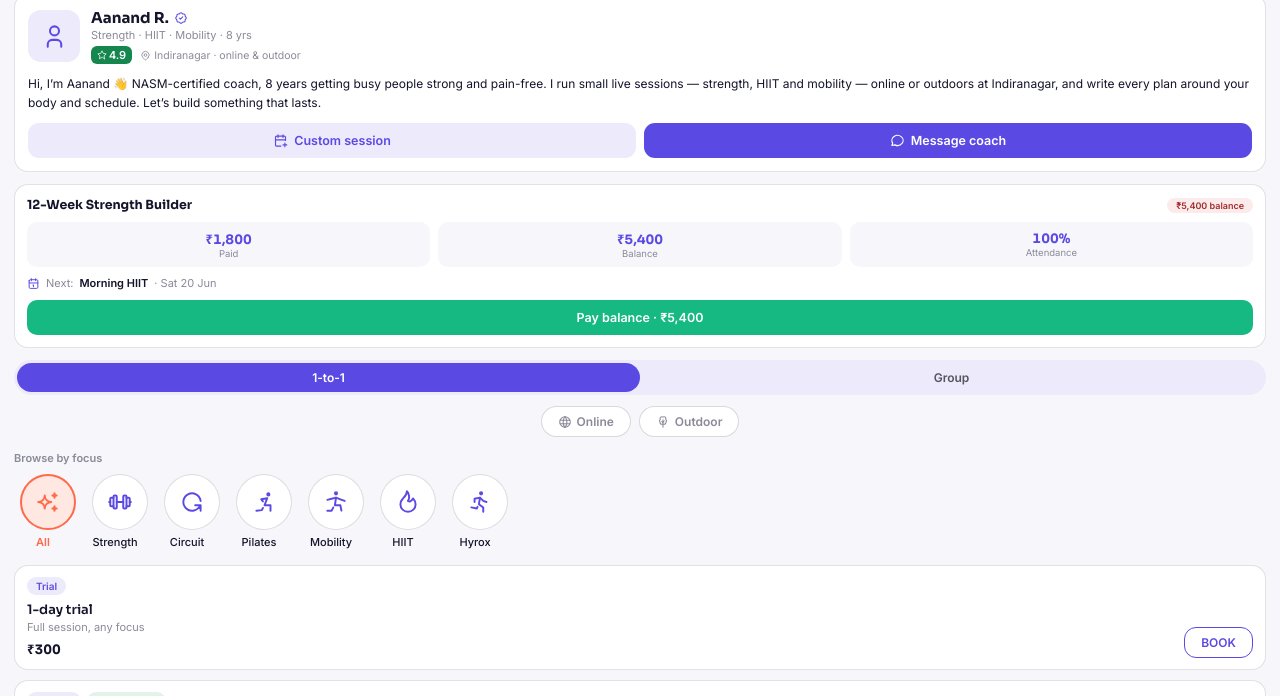
Test: SessionsScreen › filters 1:1 programs by Online / Outdoor delivery
The image size is (1280, 696).
Click the button "Online".
click(586, 422)  # box top-left (541, 406), bottom-right (631, 437)
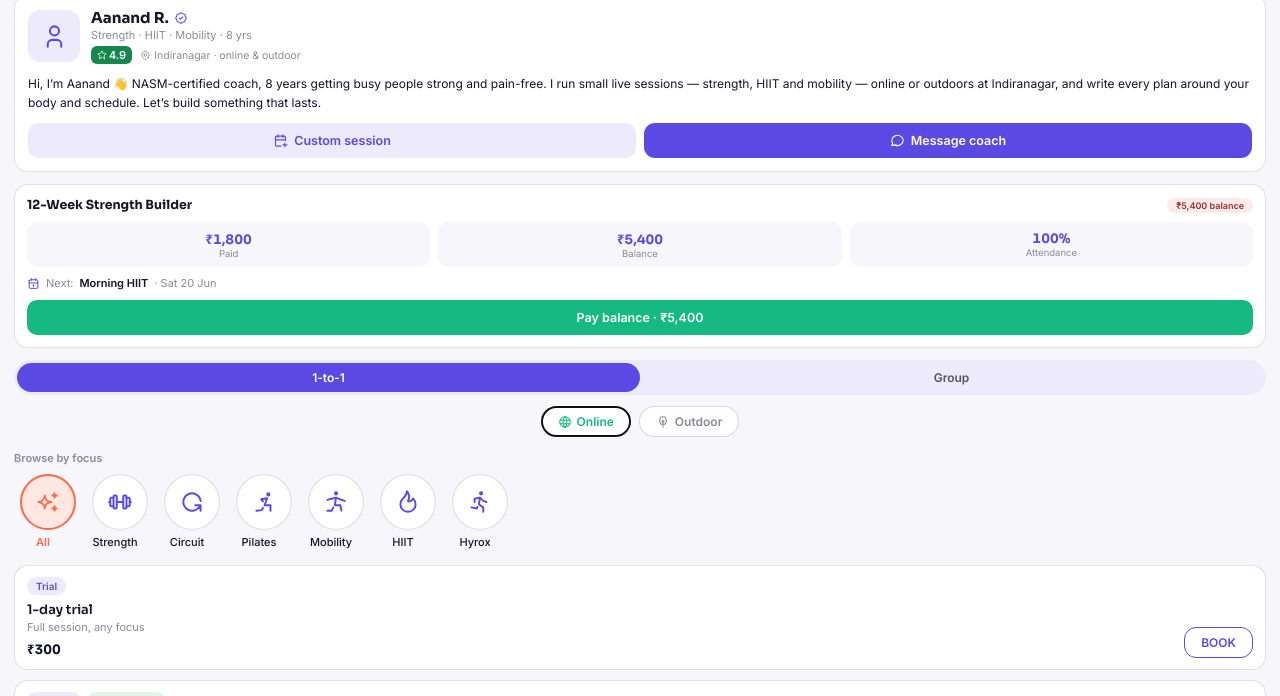
Check: the text "Daily morning strength" is not shown
Click the button "Outdoor".
click(689, 422)  # box top-left (639, 406), bottom-right (740, 437)
(page scrolled)
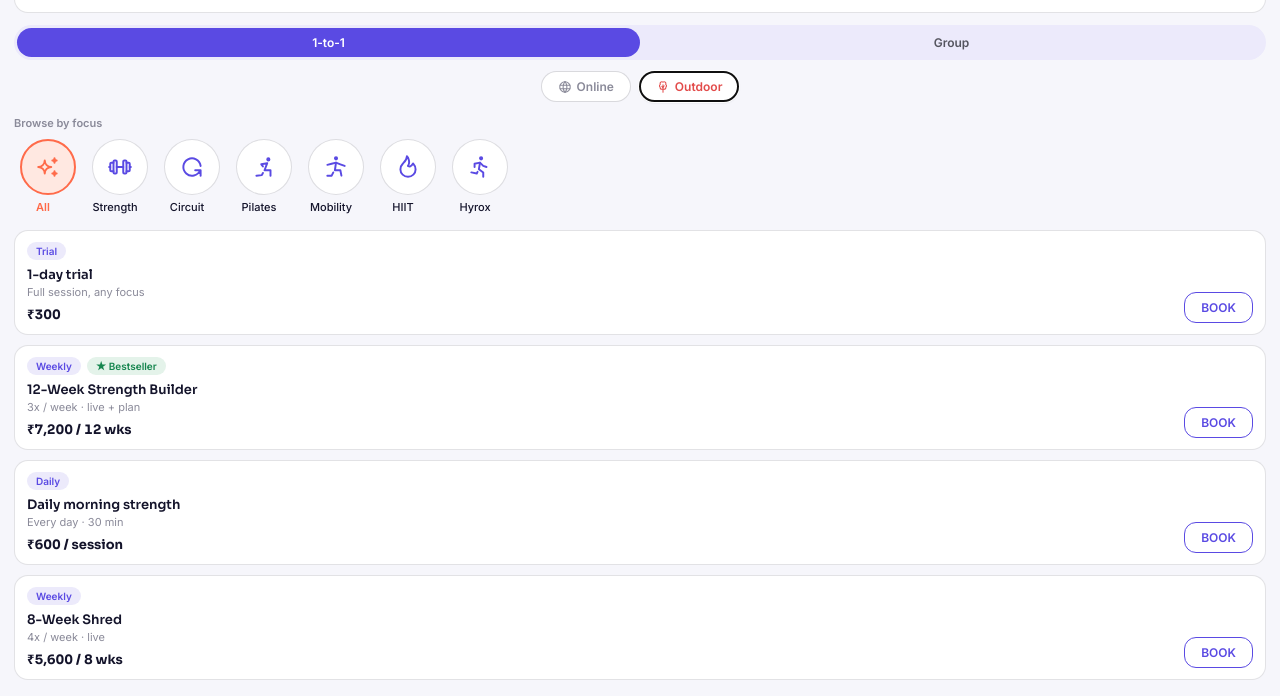
Check: the text "Daily morning strength" is shown, box top-left (27, 496), bottom-right (180, 513)
